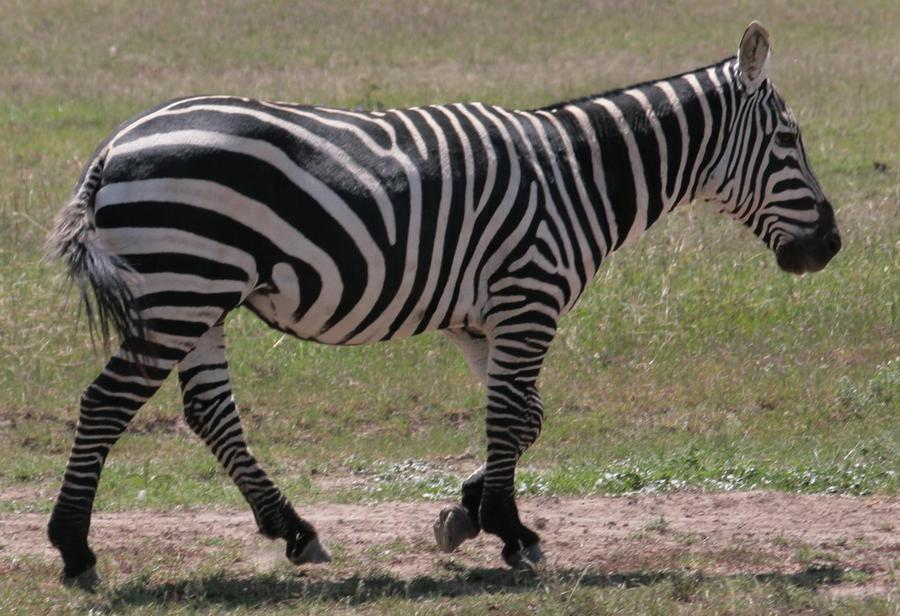zebra_plains: (79, 68, 614, 351)
